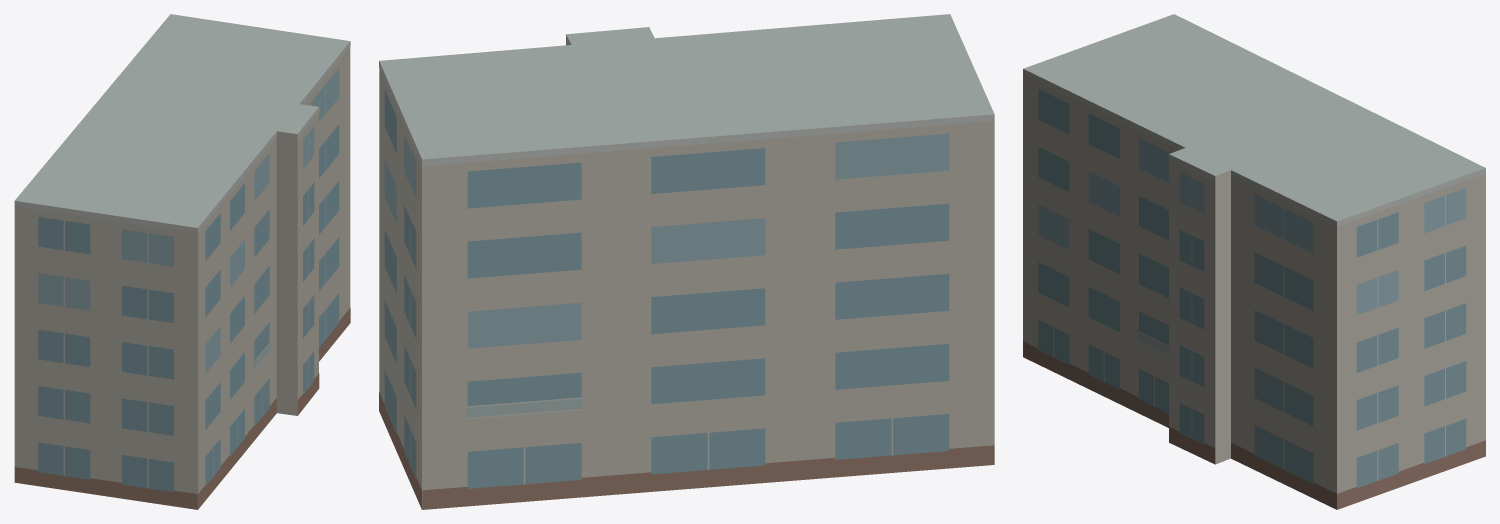
Rendered from survey-upis-32685737.glb.
3 renders of one model, left to right at view 1: azimuth 30°, elevation 25°; view 2: azimuth 150°, elevation 25°; view 3: azimuth 270°, elevation 25°, orthographic. The views are drawn at different scales.
Parts seen in each view (by area): view 1: survey-upis-32685737.tmp; view 2: survey-upis-32685737.tmp; view 3: survey-upis-32685737.tmp.
Boxes of the visible parts, x1,y1,x2,y2 form: survey-upis-32685737.tmp: [14, 14, 350, 509]; survey-upis-32685737.tmp: [379, 14, 994, 509]; survey-upis-32685737.tmp: [1023, 14, 1485, 509].
Bounding box in the file's own units: 19.75 × 12.8 × 18.62.
